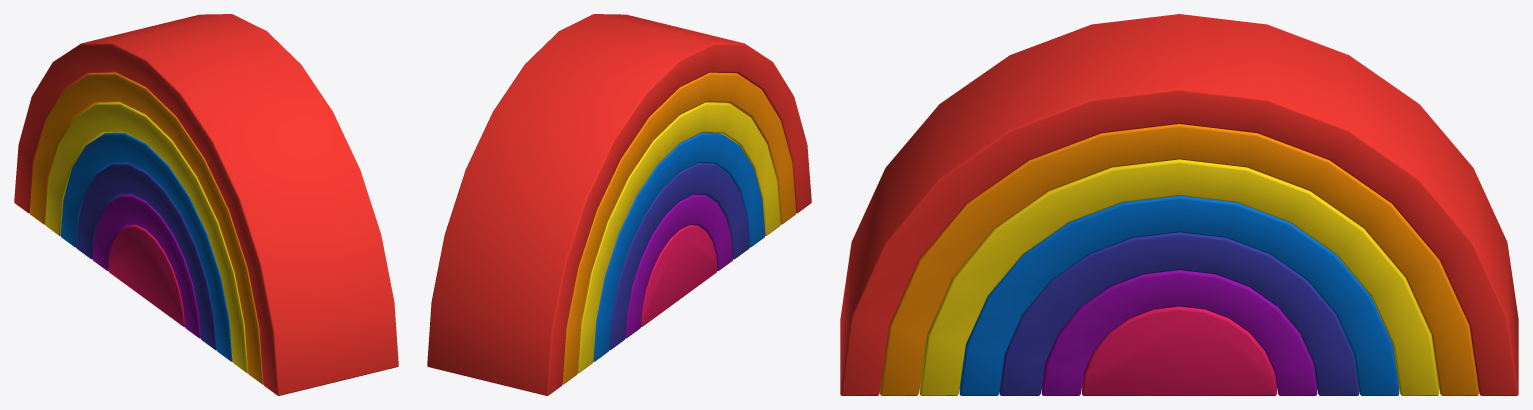
Rendered from RainbowArc.fbx.
3 renders of one model, left to right at view 1: azimuth 30°, elevation 25°; view 2: azimuth 150°, elevation 25°; view 3: azimuth 270°, elevation 25°, orthographic. The views are drawn at different scales.
Parts seen in each view (by area): view 1: Arc6, Arc5, Arc4, Arc3, Arc2, Arc1, Center; view 2: Arc6, Arc5, Arc4, Arc3, Arc2, Arc1, Center; view 3: Arc6, Arc5, Arc4, Arc3, Arc2, Center, Arc1.
Part boxes in pixels (<box>): Arc6: <box>14,14,398,395</box>; Arc5: <box>29,72,263,384</box>; Arc4: <box>45,102,247,373</box>; Arc3: <box>60,132,232,361</box>; Arc2: <box>76,163,216,350</box>; Arc1: <box>92,194,200,338</box>; Center: <box>108,225,184,326</box>; Arc6: <box>427,14,811,395</box>; Arc5: <box>562,72,796,384</box>; Arc4: <box>578,102,780,373</box>; Arc3: <box>593,132,765,361</box>; Arc2: <box>609,163,749,350</box>; Arc1: <box>625,194,733,338</box>; Center: <box>641,225,717,326</box>; Arc6: <box>840,14,1518,395</box>; Arc5: <box>880,124,1478,395</box>; Arc4: <box>919,159,1439,395</box>; Arc3: <box>959,195,1399,395</box>; Arc2: <box>999,232,1359,395</box>; Center: <box>1082,306,1276,395</box>; Arc1: <box>1041,270,1317,395</box>.
Size of the model in its own units: 15.71 by 29.63 by 59.22.
